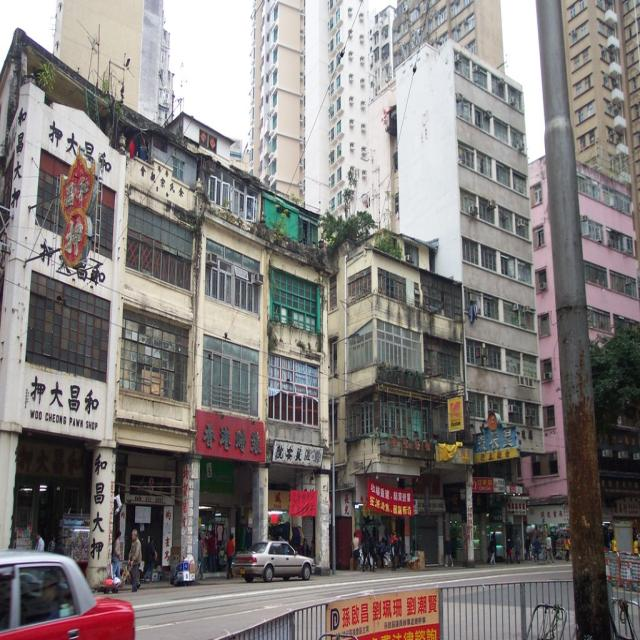car: (0, 540, 135, 636), (233, 549, 313, 591)
